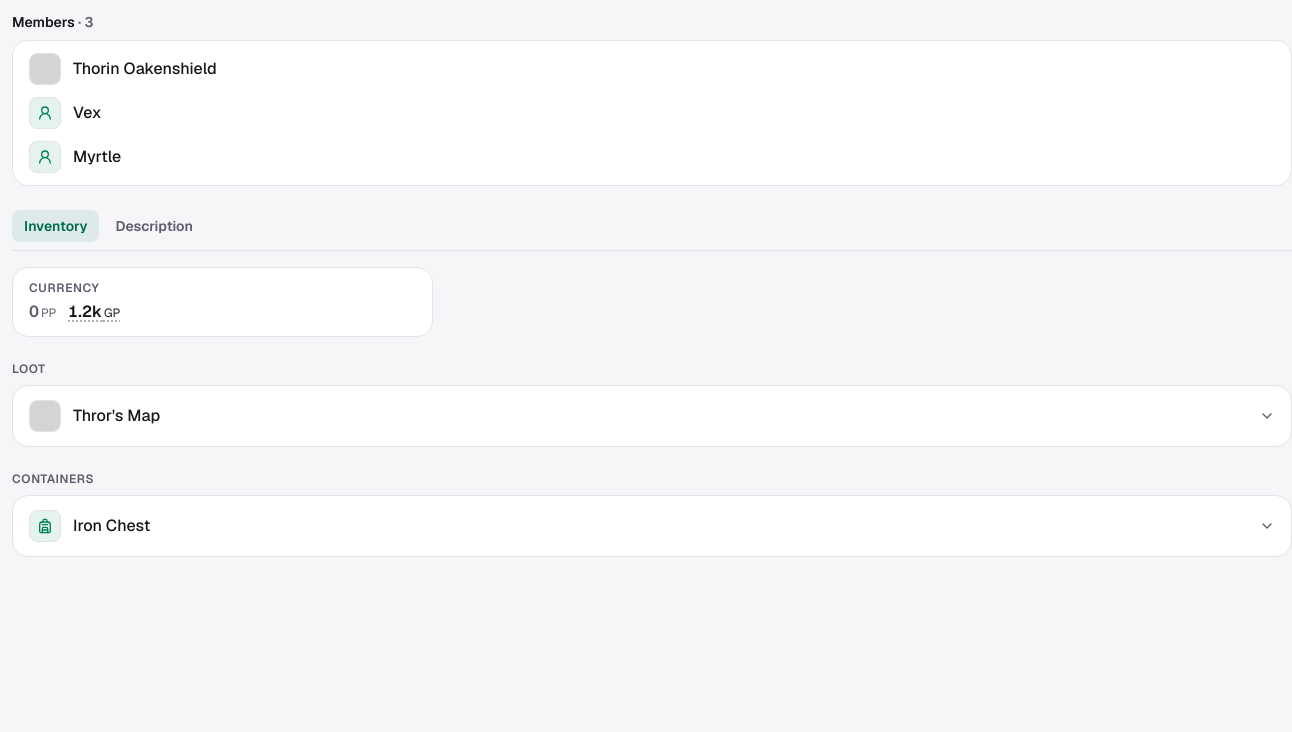
components/party-sheet, the party’s journal (module 0.35.0) › keeps its tabs, and opens Description on the journal’s card, then the description under its heading
The width and height of the screenshot is (1292, 732).
Expected: the element "Journal" is not shown
Click the tab "Description". click: (154, 226)
box: x1=103 y1=210 x2=205 y2=242
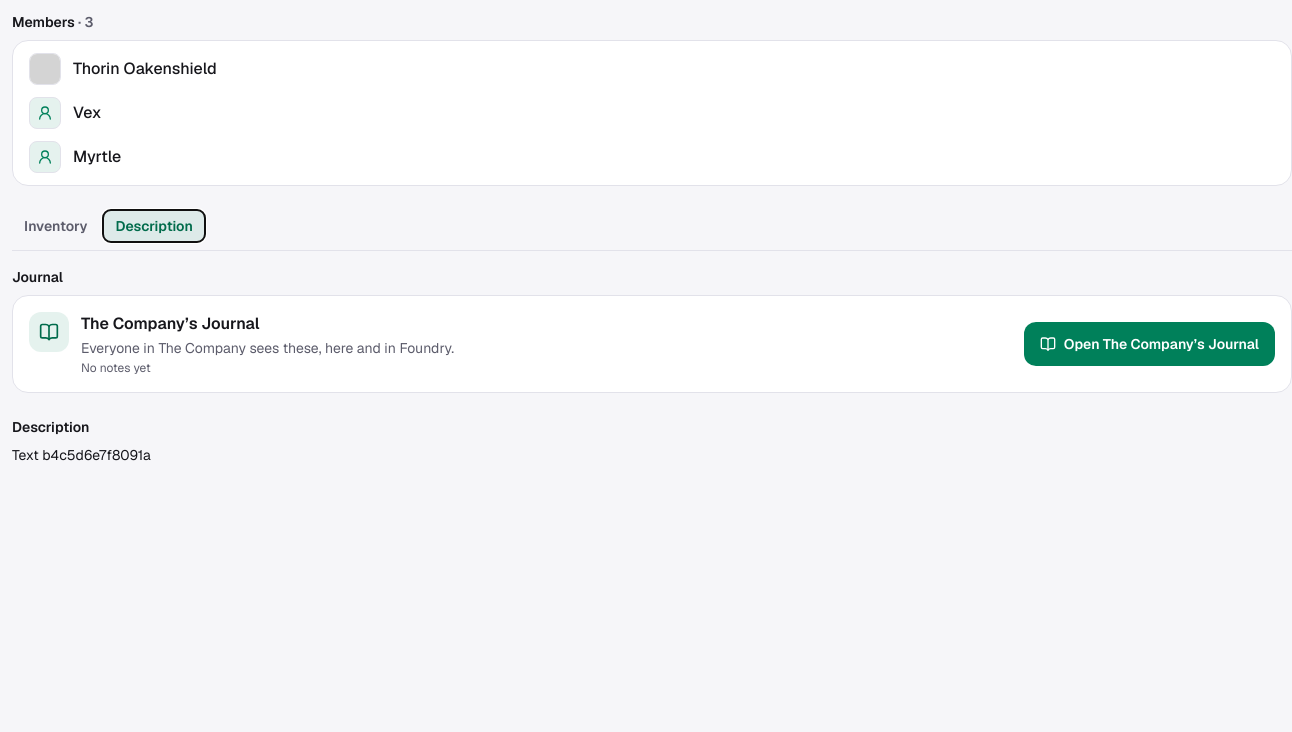
Now the text "Everyone in The Company sees these, here and in Foundry." is shown, box x1=81 y1=338 x2=454 y2=358
Now the text "The Company’s Journal" is shown, box x1=81 y1=313 x2=260 y2=334
